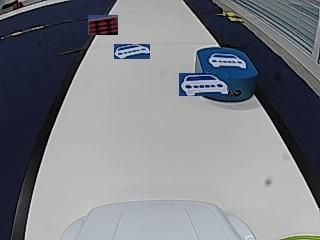safety: (208, 52, 246, 69)
